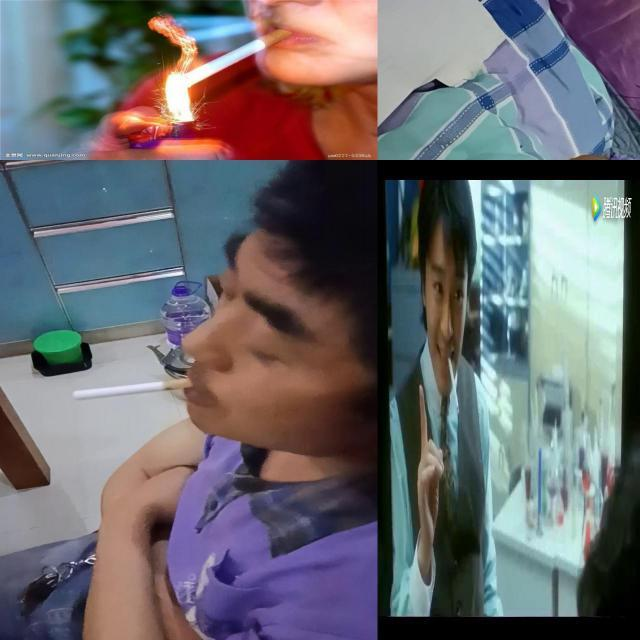cigarette: (188, 28, 291, 82), (72, 378, 194, 401), (448, 356, 460, 416)
